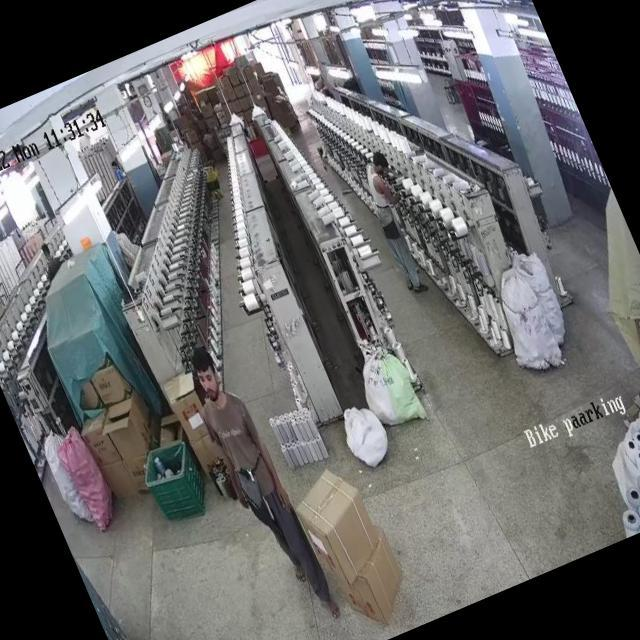person: (182, 344, 338, 626), (354, 152, 436, 288)
